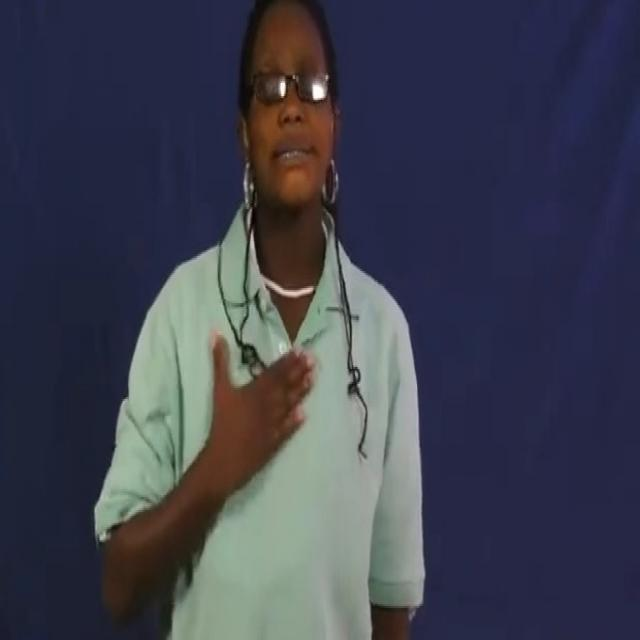please: (195, 320, 324, 518)
